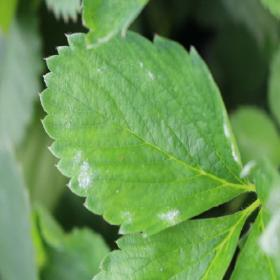Powdery Mildew Leaf: (38, 29, 250, 238)
